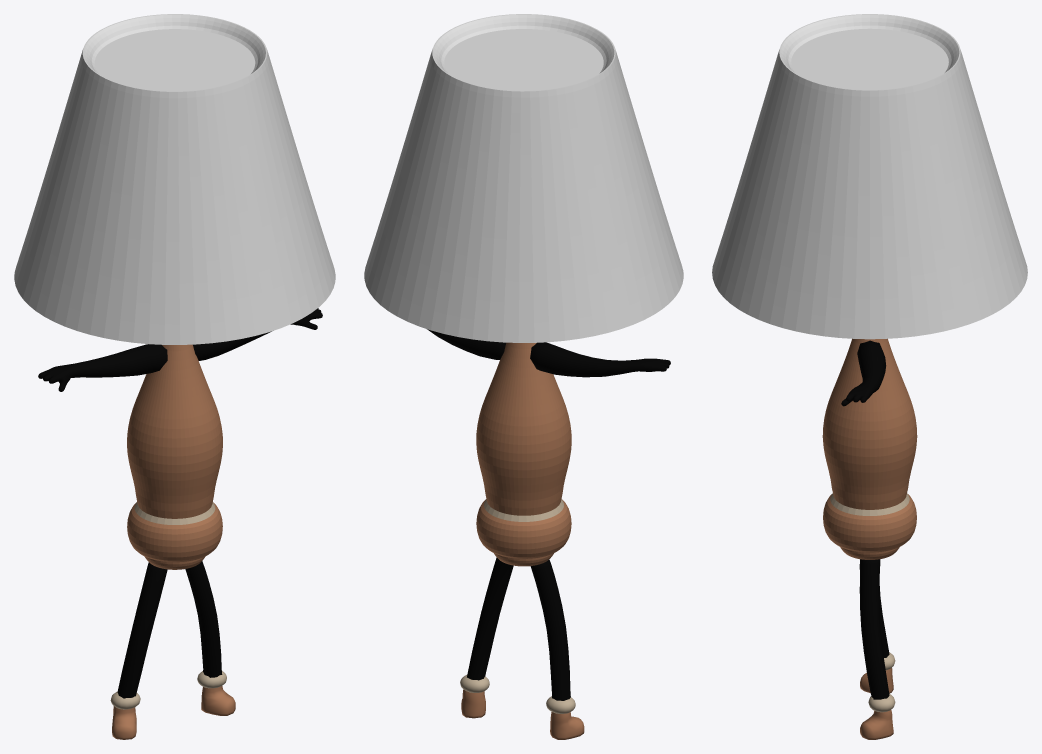
Rendered from Abajur3D_Colorized.fbx.
3 views of the same model, side by side, from view 1: azimuth 30°, elevation 25°; view 2: azimuth 150°, elevation 25°; view 3: azimuth 270°, elevation 25° (orthographic).
Visible parts, largest first — view 1: head, abajur, arm.R, leg.R, leg.L, arm.L, foot.L, foot.R; view 2: head, abajur, leg.R, arm.R, leg.L, arm.L, foot.R, foot.L; view 3: head, abajur, leg.L, arm.L, foot.L.
Boxes of the visible parts, x1=… form: head: x1=14, y1=14, x2=335, y2=344; abajur: x1=127, y1=344, x2=222, y2=569; arm.R: x1=38, y1=344, x2=167, y2=391; leg.R: x1=117, y1=562, x2=167, y2=698; leg.L: x1=185, y1=561, x2=222, y2=677; arm.L: x1=193, y1=308, x2=322, y2=360; foot.L: x1=201, y1=686, x2=235, y2=715; foot.R: x1=112, y1=706, x2=136, y2=739; head: x1=364, y1=14, x2=683, y2=342; abajur: x1=476, y1=342, x2=571, y2=566; leg.R: x1=530, y1=559, x2=570, y2=700; arm.R: x1=530, y1=342, x2=670, y2=377; leg.L: x1=467, y1=557, x2=513, y2=680; arm.L: x1=427, y1=329, x2=506, y2=359; foot.R: x1=550, y1=712, x2=584, y2=739; foot.L: x1=461, y1=689, x2=485, y2=718; head: x1=712, y1=14, x2=1027, y2=339; abajur: x1=822, y1=338, x2=917, y2=559; leg.L: x1=859, y1=559, x2=889, y2=699; arm.L: x1=841, y1=340, x2=886, y2=406; foot.L: x1=860, y1=710, x2=893, y2=739.
Bounding box in the file's own units: 0.75 × 1.72 × 0.7467.
